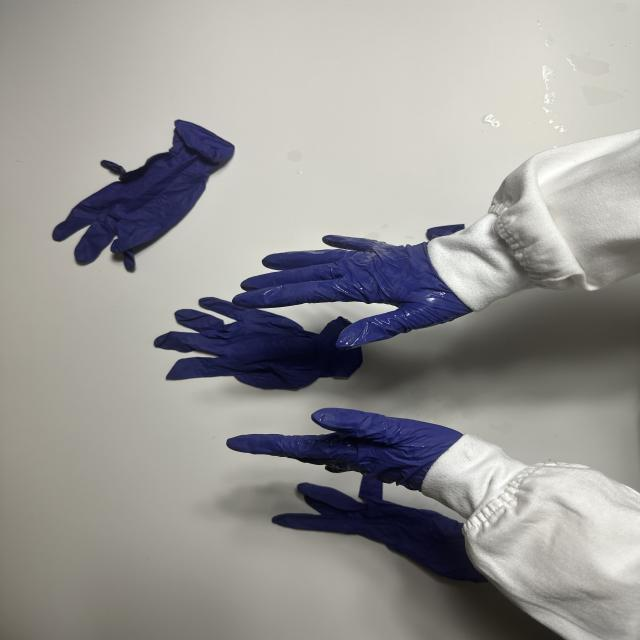gloves_contaminated: (233, 235, 472, 349), (227, 408, 463, 490)
